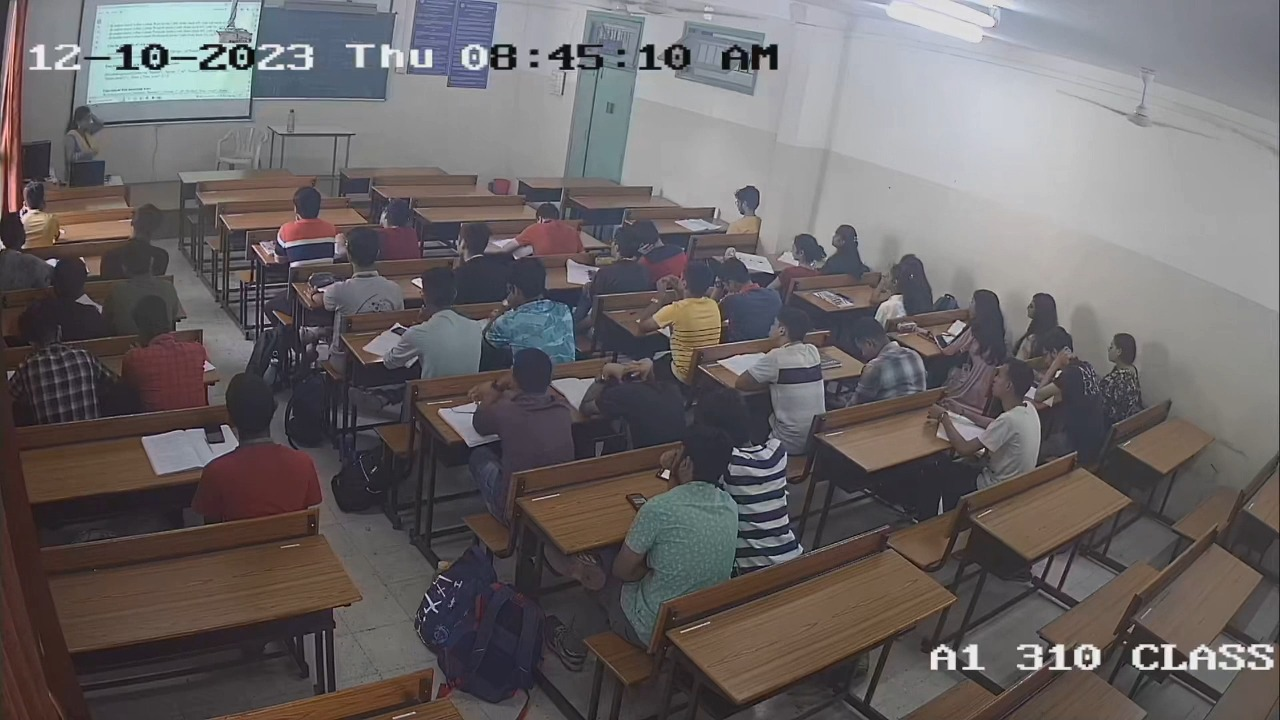cell-phones: (204, 420, 226, 449), (626, 489, 648, 514), (389, 324, 413, 339), (593, 255, 615, 266)
person: (615, 424, 737, 595), (185, 375, 322, 521), (377, 267, 482, 386), (588, 223, 649, 292)
